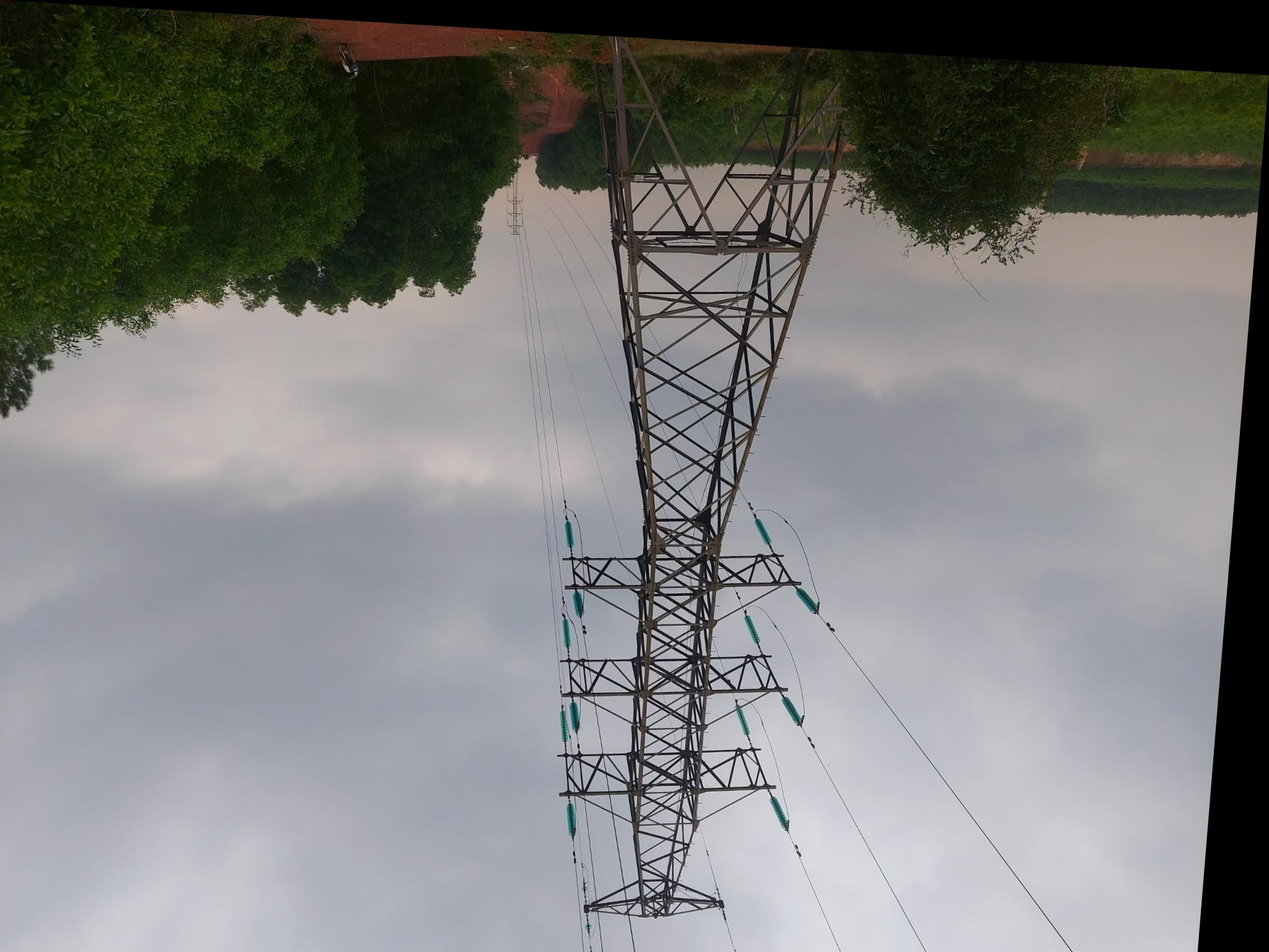tower: (523, 38, 857, 945)
